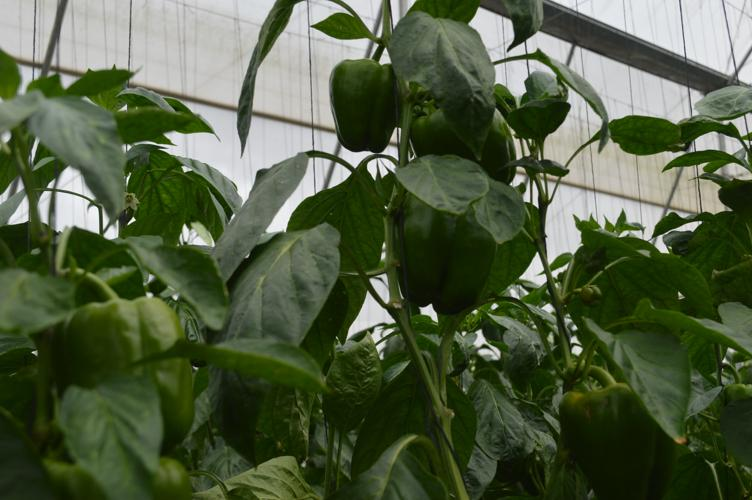BellPepper: (48, 303, 199, 448), (550, 380, 681, 500), (391, 165, 486, 316), (413, 94, 529, 183), (322, 52, 399, 156)
